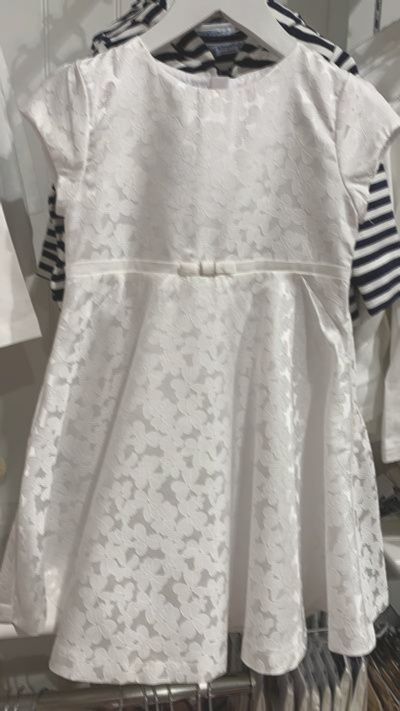Dress: (5, 16, 394, 683)
